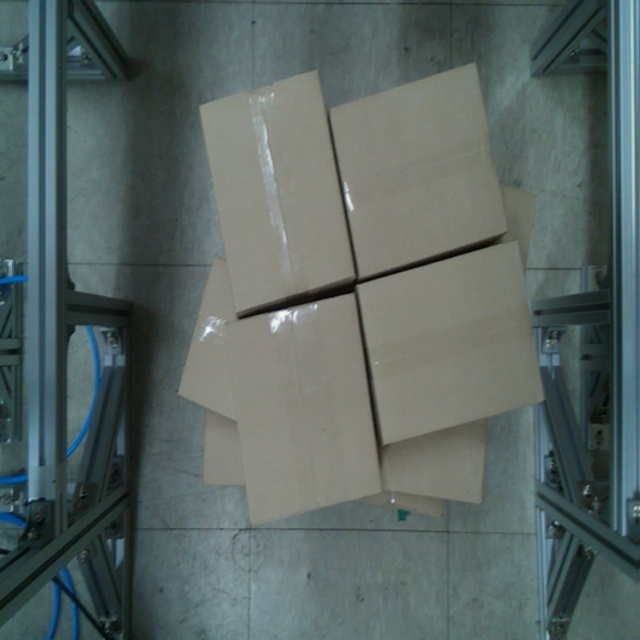box: (199, 65, 359, 319), (329, 61, 512, 281), (357, 239, 549, 448), (224, 289, 389, 532)
